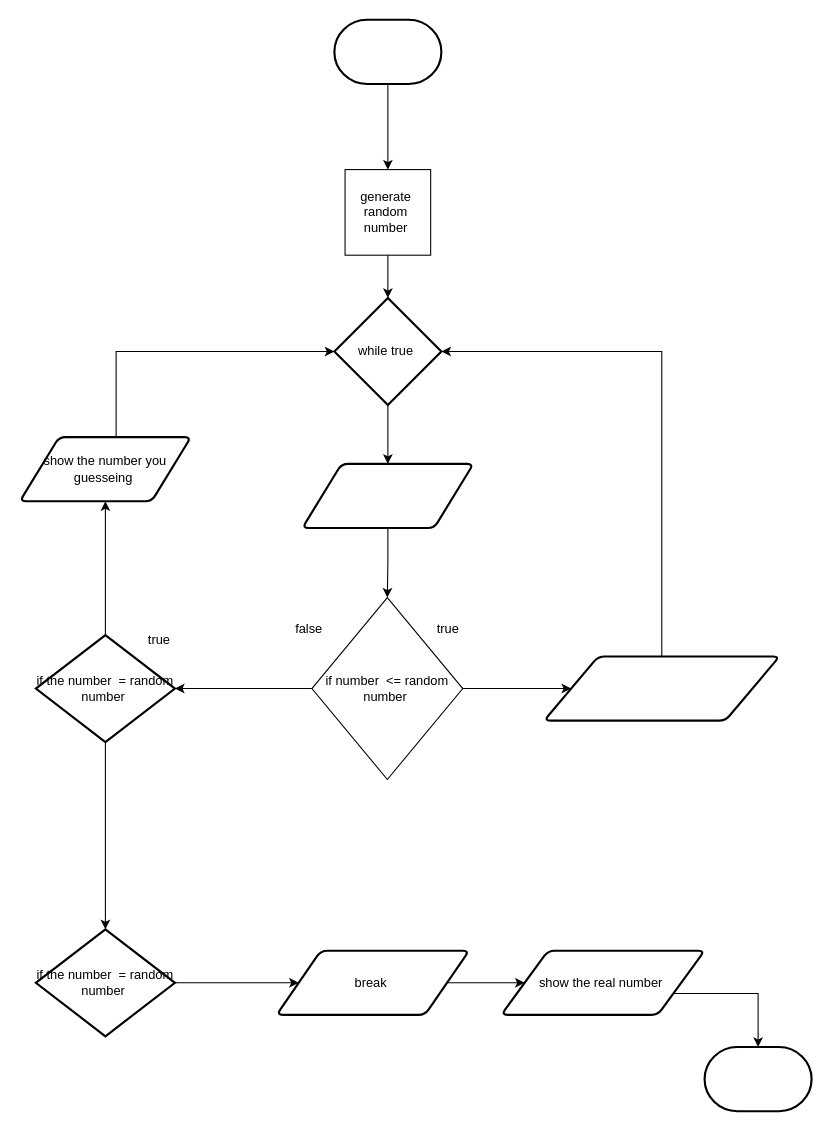
Image size: 830x1130. Some labels were removed from this diagram. The centre of each missing label's shape, as x and y in pixels:
Get number: pixel 387 495
Start: pixel 387 51
stop: pixel 757 1078
tell them it is big then the random number: pixel 661 688
